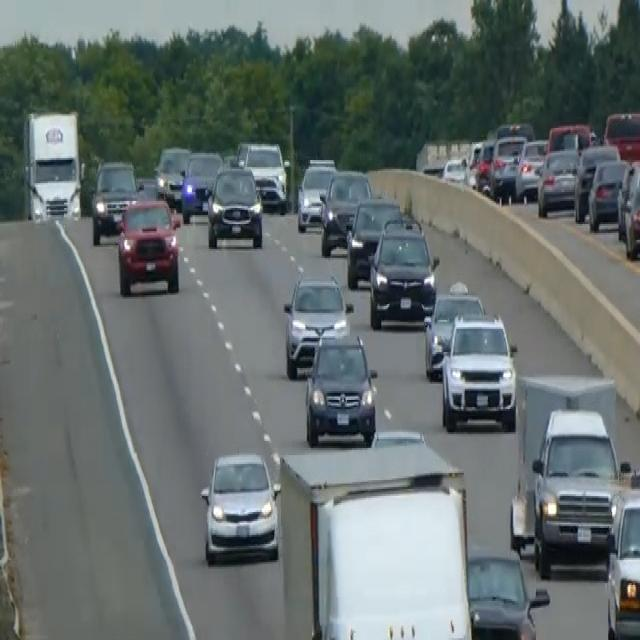car: (199, 448, 280, 565), (440, 311, 517, 430), (303, 329, 378, 446), (282, 270, 353, 379), (466, 546, 550, 638), (367, 222, 438, 327), (116, 196, 180, 295), (422, 279, 484, 379), (345, 194, 402, 288), (605, 484, 639, 638), (206, 162, 263, 249), (319, 167, 371, 254), (90, 156, 140, 244), (235, 138, 288, 212), (573, 142, 620, 220), (587, 157, 629, 231), (536, 146, 579, 217), (180, 147, 221, 220), (296, 160, 336, 231), (489, 131, 525, 201), (154, 144, 190, 206), (515, 137, 548, 201), (603, 108, 639, 162), (616, 156, 639, 240), (546, 121, 592, 155), (465, 137, 494, 190), (623, 174, 639, 260), (441, 153, 467, 185)
lorry: (21, 105, 85, 224)
truck: (530, 404, 625, 576)
